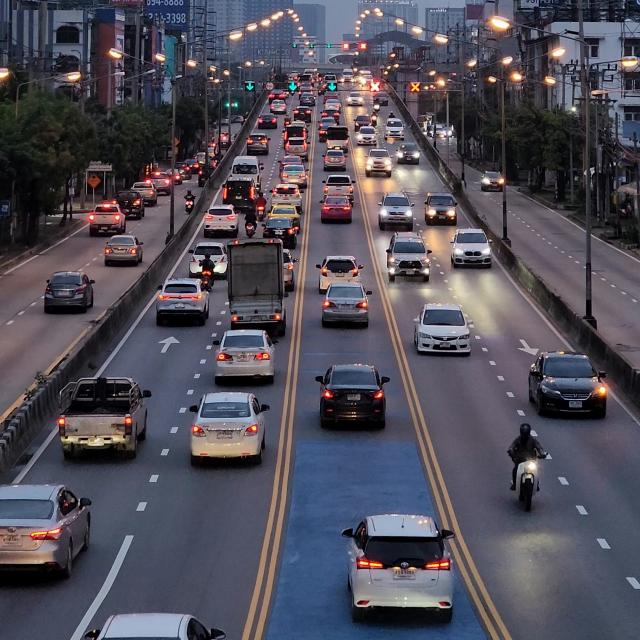Vehicle: (339, 514, 456, 625), (0, 480, 97, 583), (54, 374, 160, 462), (526, 347, 614, 425), (188, 390, 270, 468), (226, 233, 286, 338), (312, 360, 391, 434), (409, 296, 477, 359), (210, 328, 286, 384), (154, 275, 215, 330), (40, 267, 100, 318), (382, 231, 436, 284), (318, 283, 377, 328), (449, 228, 497, 275), (314, 252, 367, 294), (102, 232, 147, 271), (377, 192, 417, 231), (425, 190, 462, 228), (90, 203, 128, 236)
